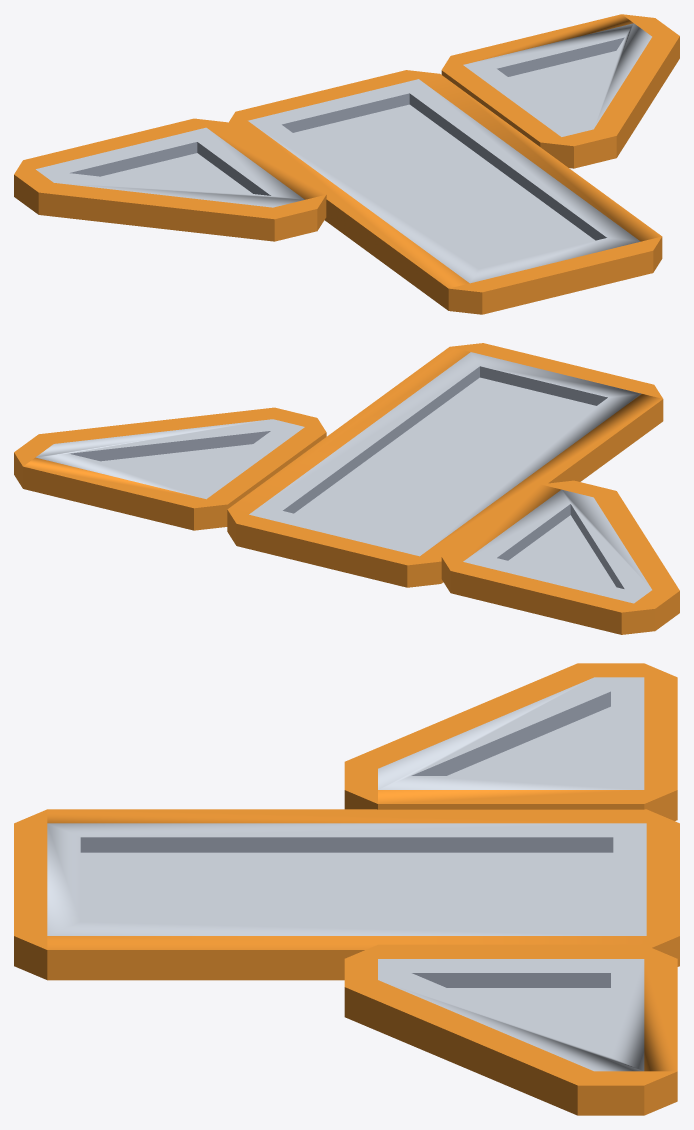
The model's file is buildings_6.obj.
3 views of the same model, one above another, from view 1: azimuth 30°, elevation 25°; view 2: azimuth 150°, elevation 25°; view 3: azimuth 270°, elevation 25° (orthographic). The views are drawn at different scales.
Visible parts, largest first — view 1: platform_smallDiagonal.002; view 2: platform_smallDiagonal.002; view 3: platform_smallDiagonal.002.
Boxes of the visible parts, x1,y1,x2,y2 form: platform_smallDiagonal.002: (14,14,679,314); platform_smallDiagonal.002: (14,343,679,634); platform_smallDiagonal.002: (14,663,679,1115).
Size of the model in its own units: 3 by 0.1187 by 2.
